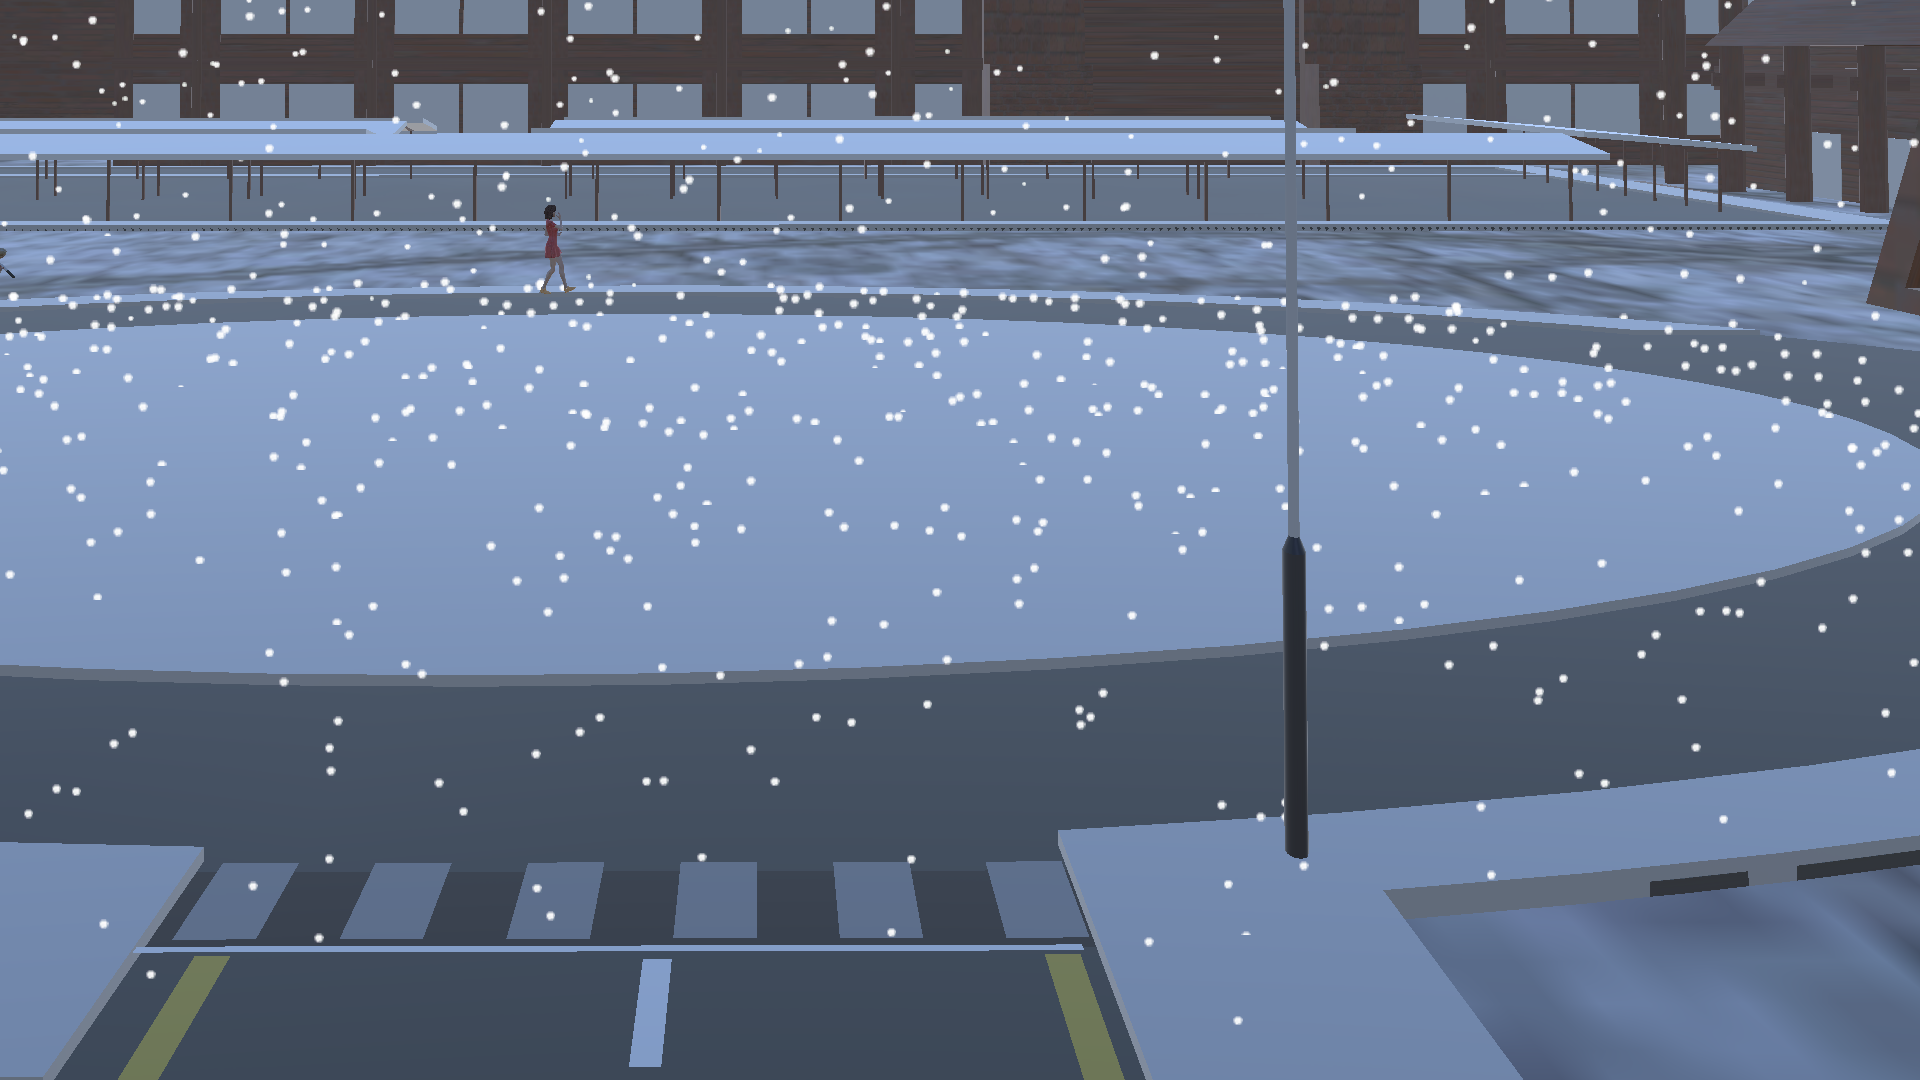pedestrian: (533, 199, 578, 294)
